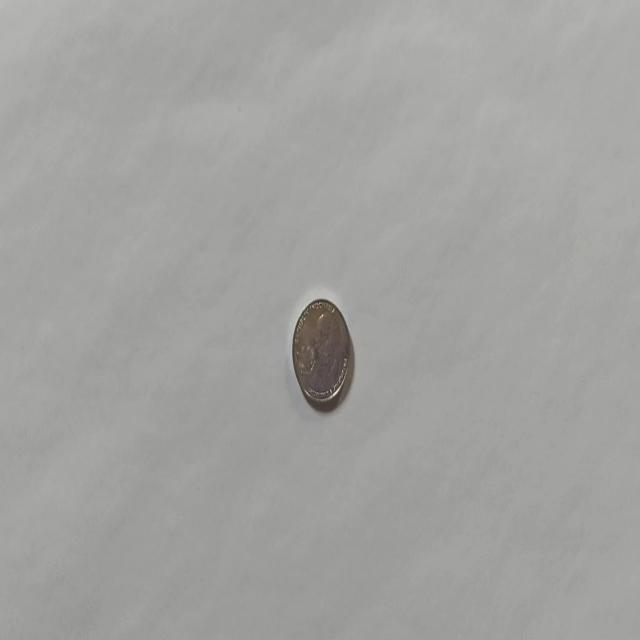lima ratus rupiah: (290, 296, 352, 411)
